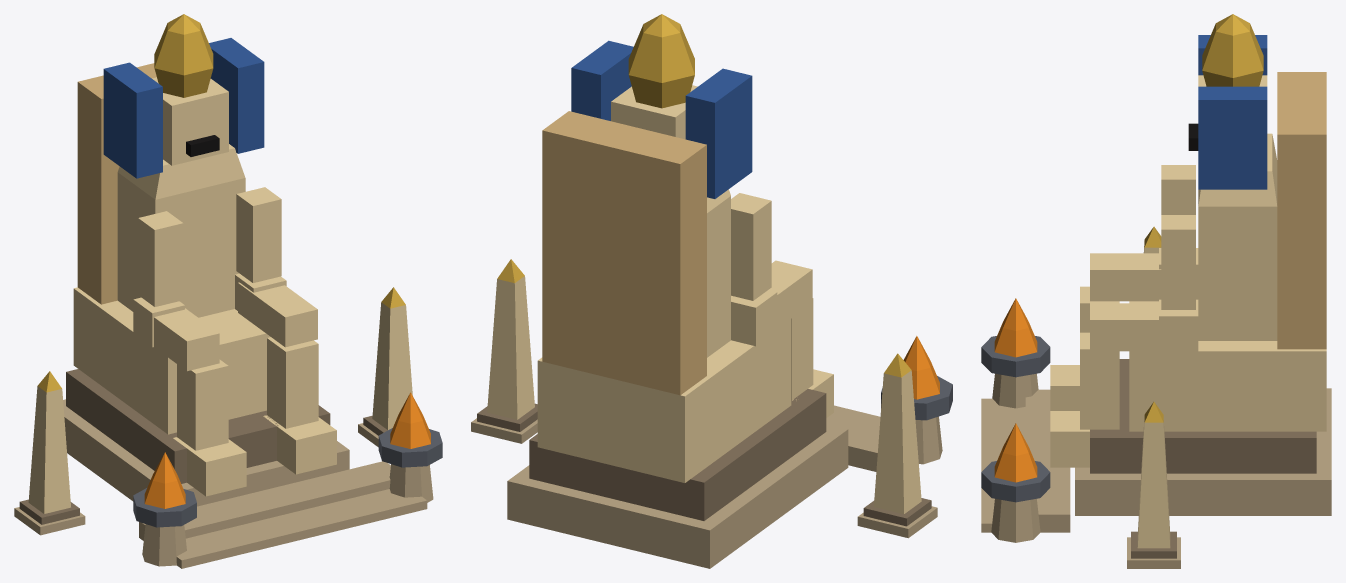
File: statue_colossus_seated.fbx
3 views of the same model, side by side, from view 1: azimuth 30°, elevation 25°; view 2: azimuth 150°, elevation 25°; view 3: azimuth 270°, elevation 25° (orthographic). The views are drawn at different scales.
Parts seen in each view (by area): view 1: statue_colossus_seated; view 2: statue_colossus_seated; view 3: statue_colossus_seated.
Boxes of the visible parts, x1,y1,x2,y2 form: statue_colossus_seated: (14, 14, 442, 568); statue_colossus_seated: (471, 14, 952, 568); statue_colossus_seated: (981, 14, 1331, 568).
Bounding box in the file's own units: 9.5 × 10.2 × 7.1.
1 material, 1 textured.
